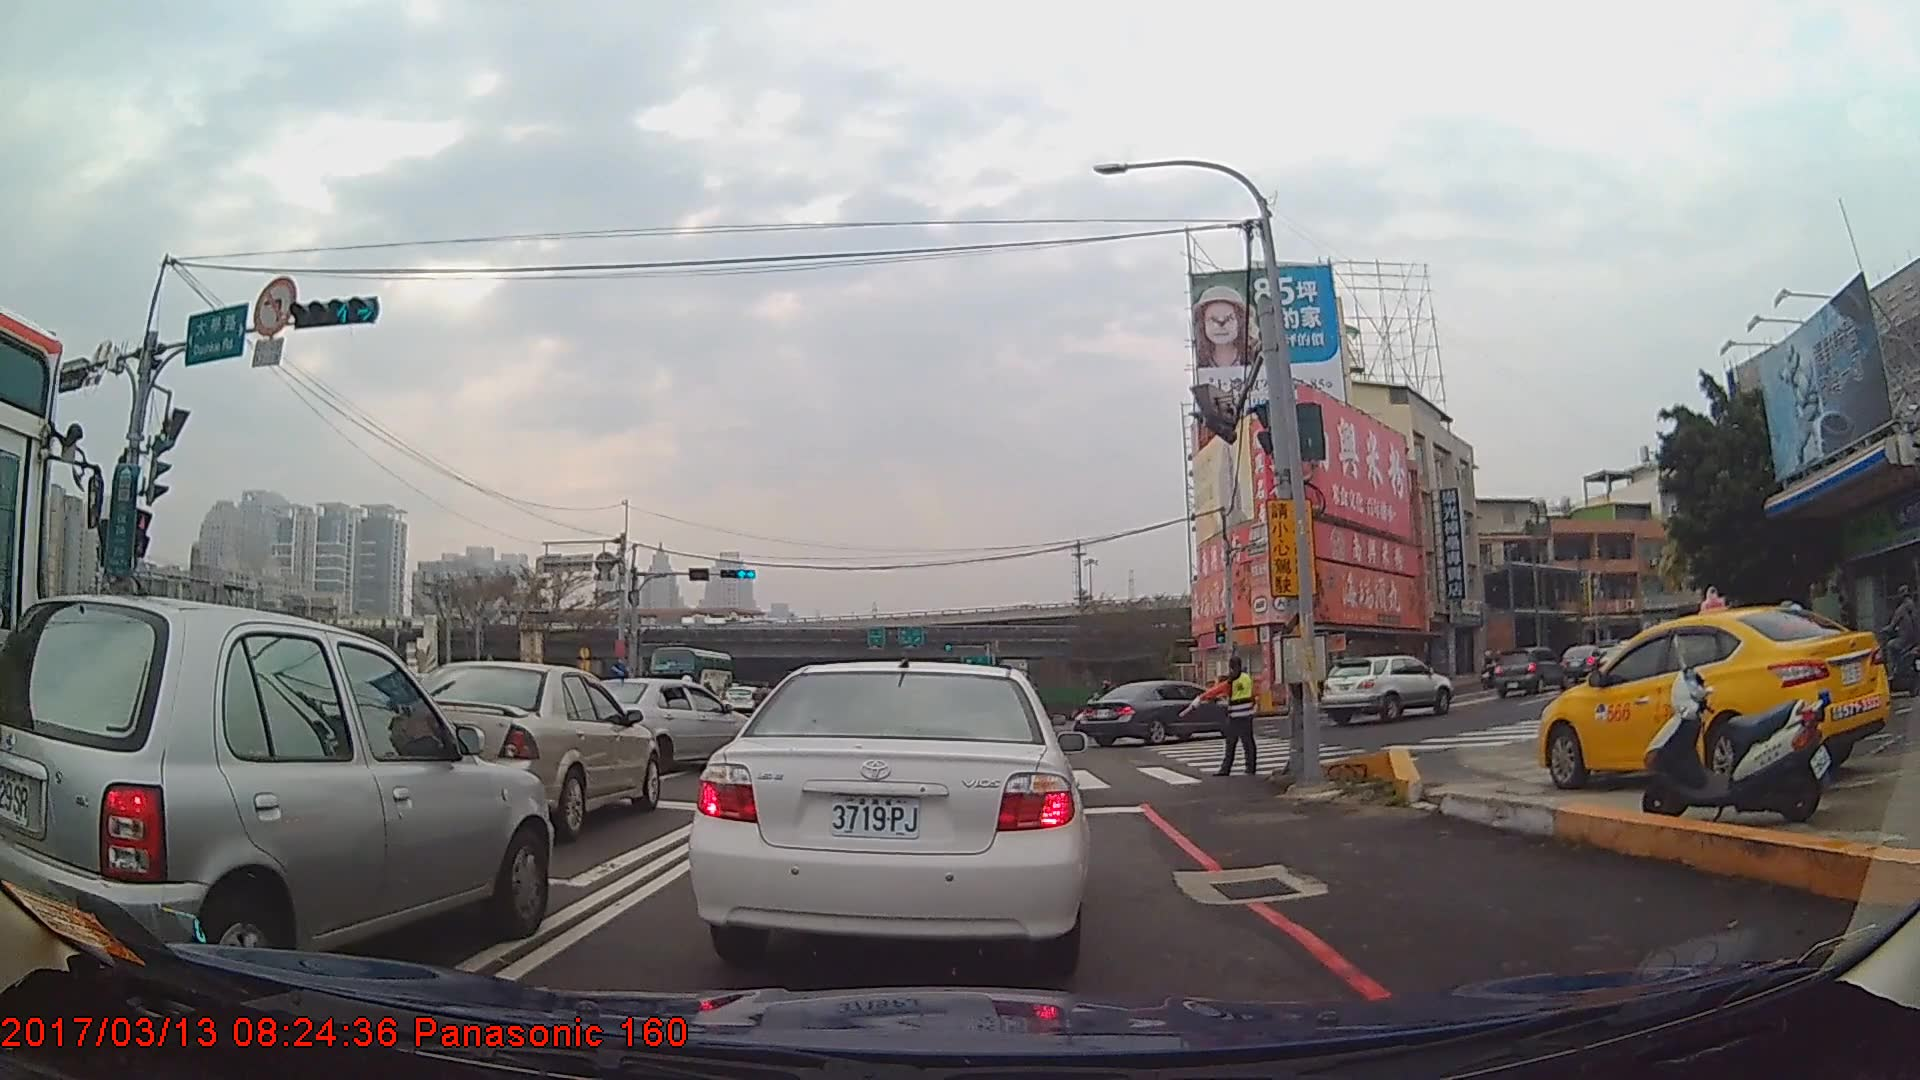pedestrian: (1180, 657, 1258, 778)
rider: (1877, 586, 1920, 699), (750, 682, 770, 724)
vehicle: (0, 594, 554, 988), (686, 652, 1089, 969), (1538, 603, 1892, 793), (389, 658, 659, 838), (0, 297, 65, 841), (576, 676, 754, 774), (1079, 680, 1236, 747), (1324, 652, 1450, 723), (649, 645, 733, 703), (1491, 645, 1568, 697), (723, 683, 764, 716)
